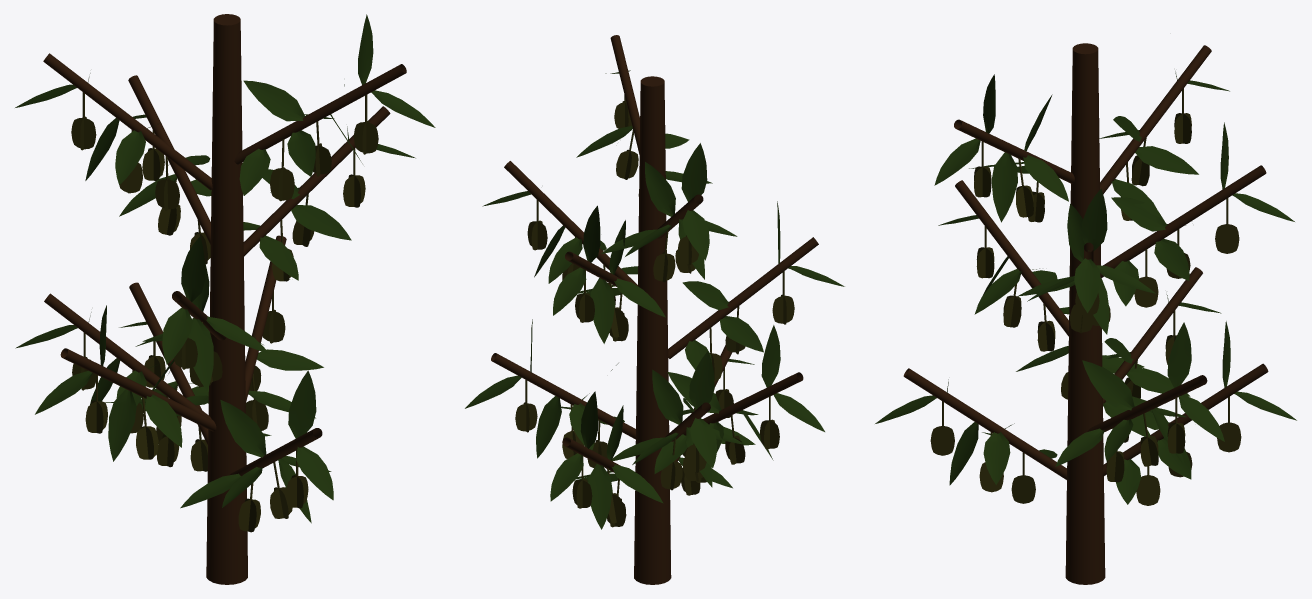
Rendered from AvocadoTree.fbx.
3 views of the same model, side by side, from view 1: azimuth 30°, elevation 25°; view 2: azimuth 150°, elevation 25°; view 3: azimuth 270°, elevation 25° (orthographic). The views are drawn at different scales.
Visible parts, largest first — view 1: AvocadoTree; view 2: AvocadoTree; view 3: AvocadoTree.
Part boxes in pixels (left/top/right/bottom): AvocadoTree: left=15, top=14, right=435, bottom=584; AvocadoTree: left=465, top=35, right=844, bottom=584; AvocadoTree: left=875, top=43, right=1296, bottom=584.
Bounding box in the file's own units: 33 × 47.18 × 33.19.
